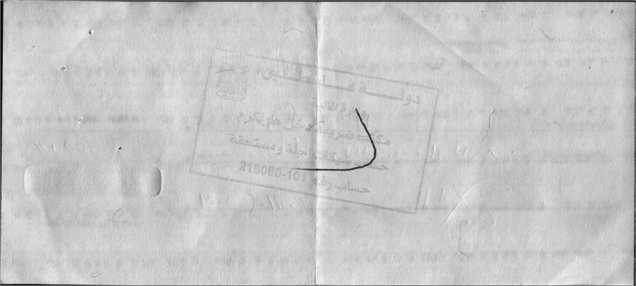stamp: (187, 44, 442, 216)
